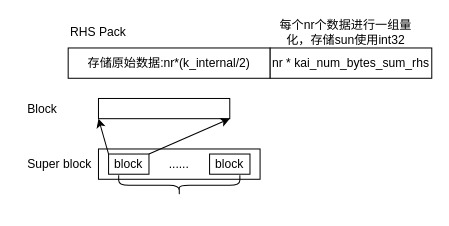
The diagram is 449 pixels wide and 226 high, and some of its shapes have lost their labels. The centre of each missing label's shape, as x and y in pixels:
"block_length_in_bytes:8" goes at (x=163, y=108).
"nr:8" goes at (x=179, y=184).
